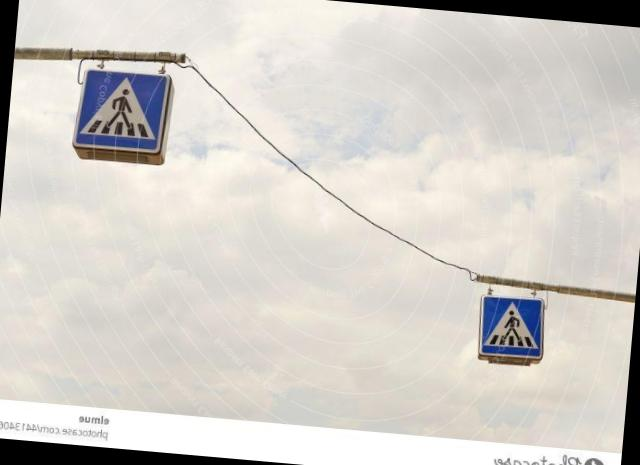crosswalk-sign: (72, 66, 177, 167), (477, 293, 550, 366)
